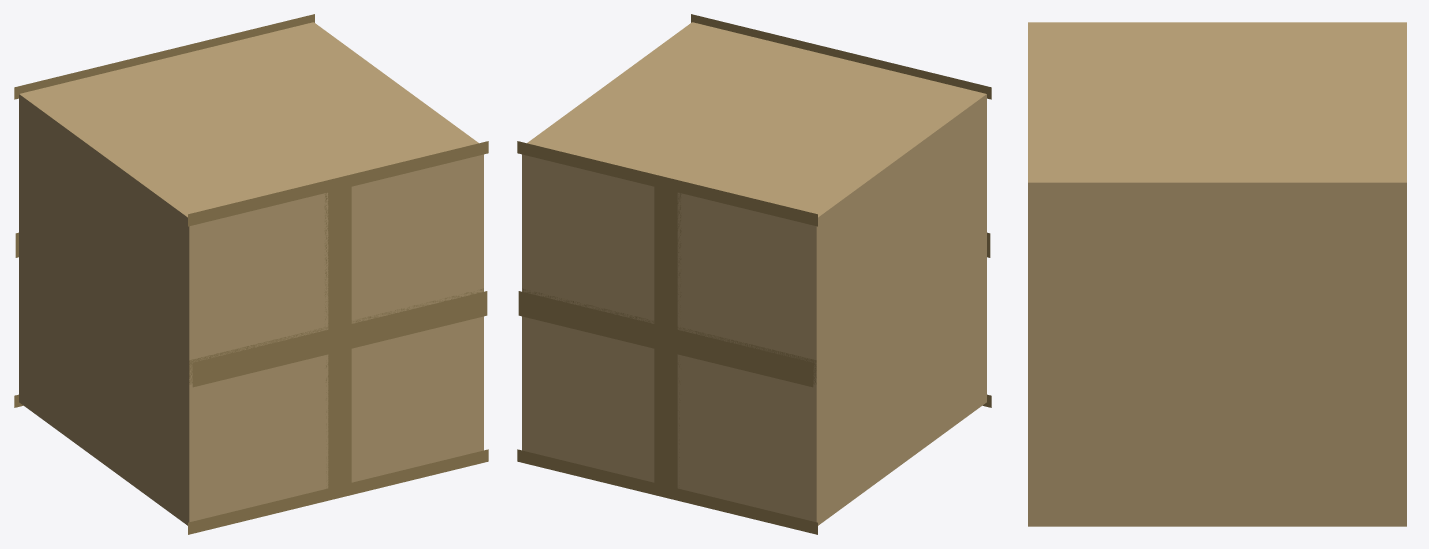
The model's file is crate.glb.
The picture shows the model from 3 angles, left to right: view 1: azimuth 30°, elevation 25°; view 2: azimuth 150°, elevation 25°; view 3: azimuth 270°, elevation 25°; orthographic projection. The views are drawn at different scales.
Visible parts, largest first — view 1: Crate; view 2: Crate; view 3: Crate.
Part boxes in pixels (<box>): Crate: <box>14,14,488,534</box>; Crate: <box>517,14,991,534</box>; Crate: <box>1028,22,1406,526</box>.
Bounding box in the file's own units: 1.02 × 1.04 × 1.04.
